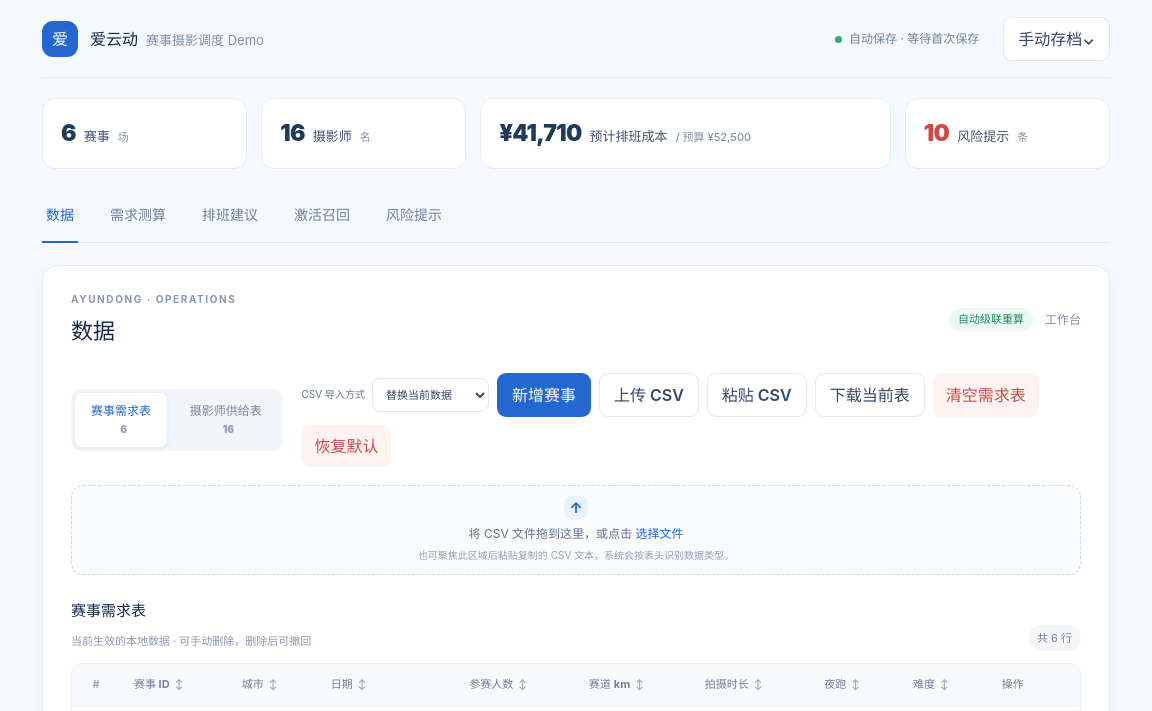
M4 data management page › clears the photographer supply table in one action without changing events and can undo the clear
This screenshot has width=1152, height=711.
Click the tab "摄影师供给表 16". click: point(226, 420)
box: [172,392,280,446]
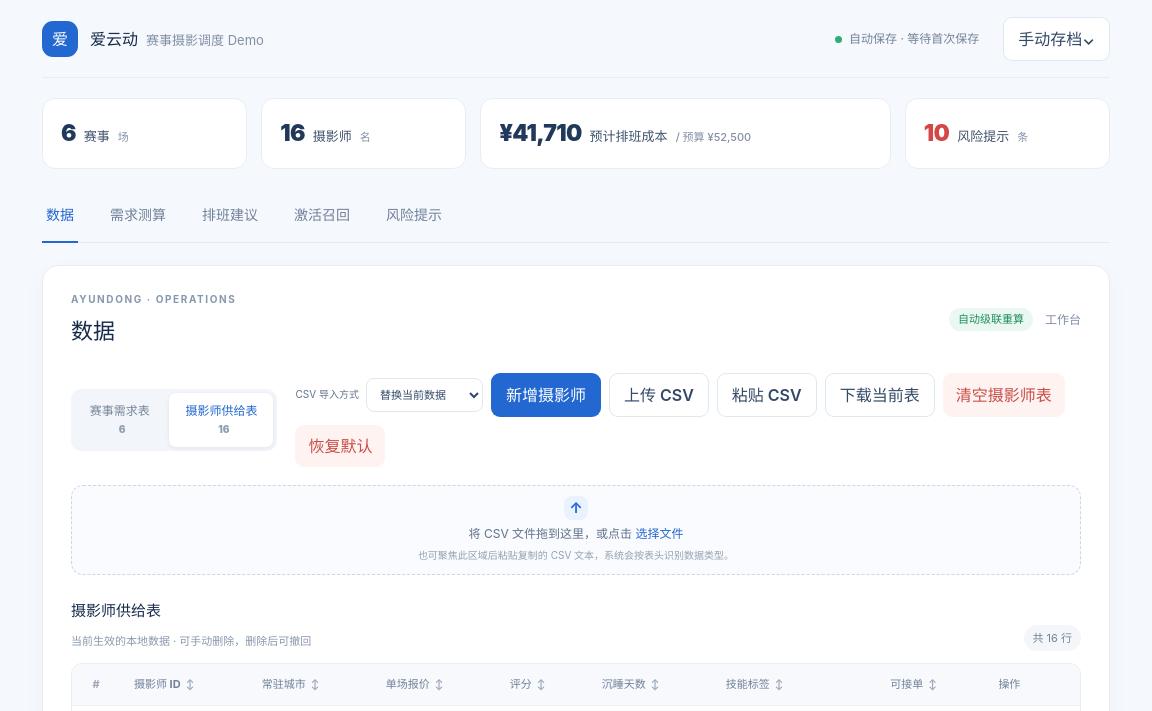
Click the button "清空摄影师表". click: point(1004, 394)
box: [943,372,1065,416]
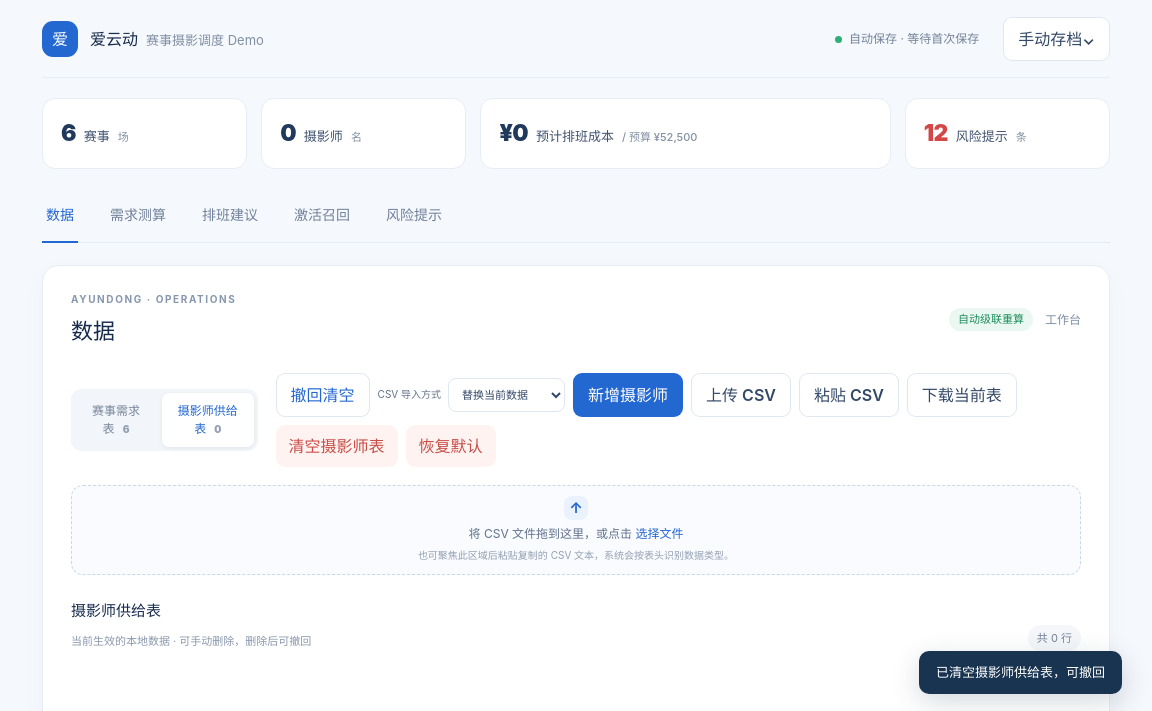
expect the text "P001" is not shown: met
expect the text "共 0 行" is shown: met, box [1028,624,1081,651]
Click the tab "赛事需求表 6". click: point(116, 420)
box: [75,392,157,446]
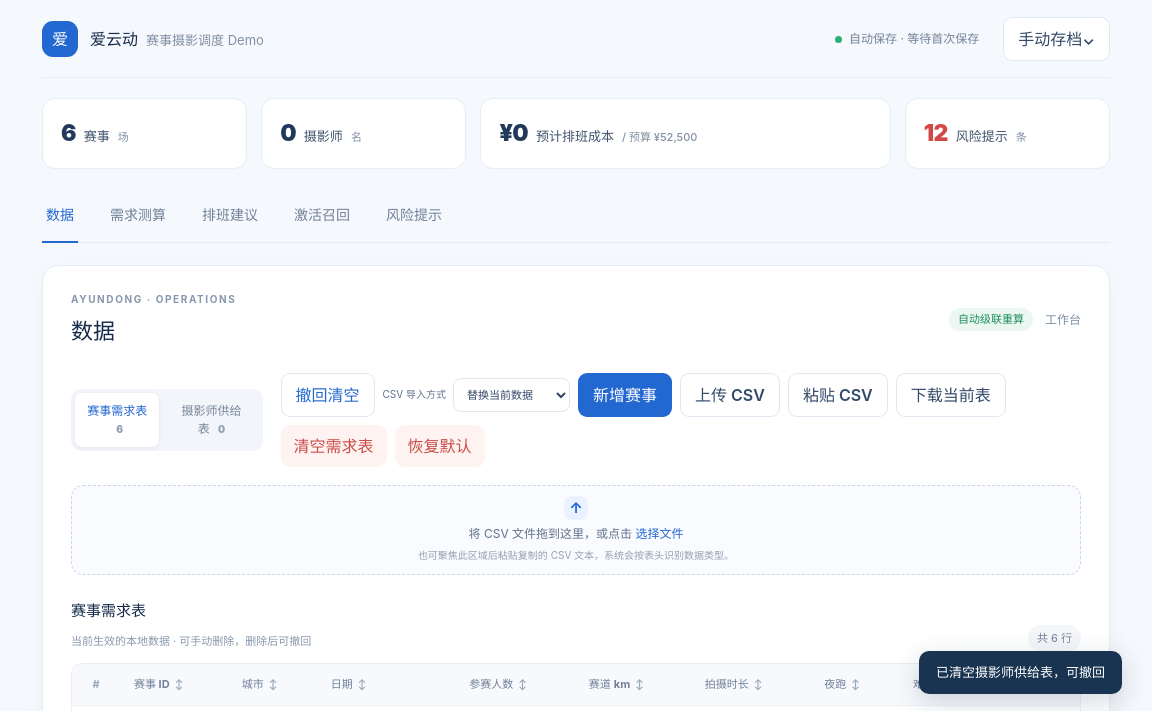
Click the button "撤回清空". click: point(328, 394)
box: [280,372,374,416]
(page scrolled)
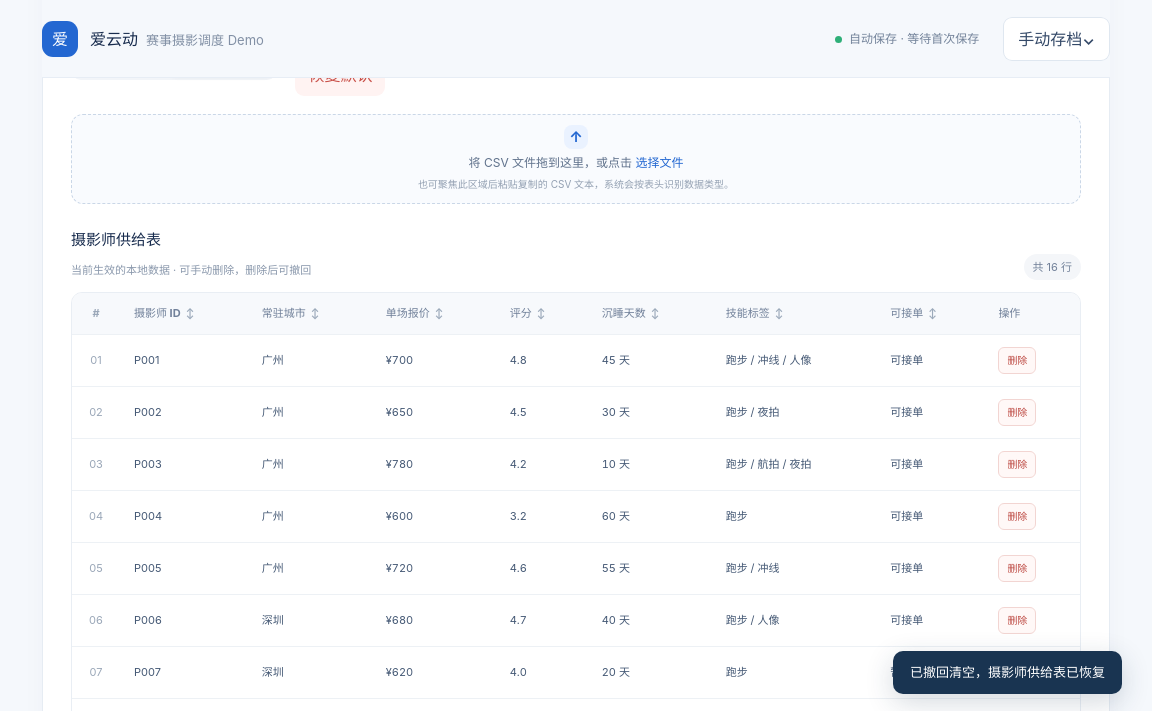
expect the text "共 16 行" is shown: met, box [1024,254,1081,280]
expect the text "P001" is shown: met, box [120,334,248,386]
